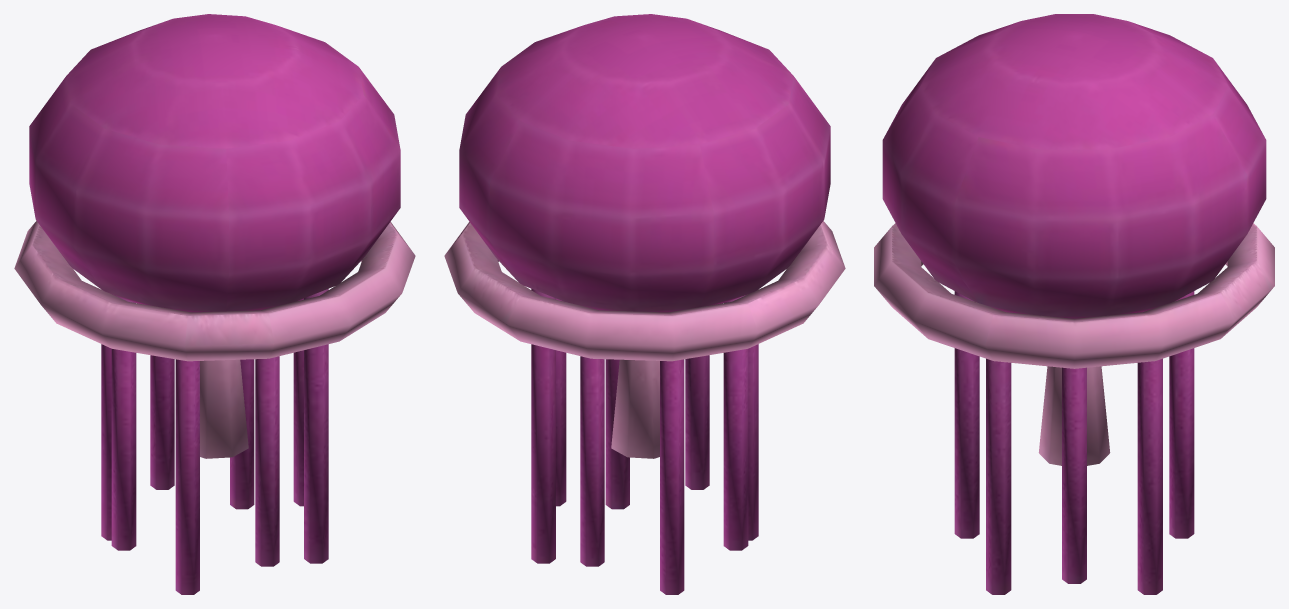
The model's file is Jellyfish.glb.
3 renders of one model, left to right at view 1: azimuth 30°, elevation 25°; view 2: azimuth 150°, elevation 25°; view 3: azimuth 270°, elevation 25°, orthographic. The views are drawn at different scales.
Parts seen in each view (by area): view 1: Jellyfish; view 2: Jellyfish; view 3: Jellyfish.
Part boxes in pixels (x1,y1,x2,y2): Jellyfish: (14, 14, 415, 594); Jellyfish: (444, 14, 845, 594); Jellyfish: (874, 14, 1274, 594).
Bounding box in the file's own units: 0.46 × 0.645 × 0.4485.
Materials: 1 (1 with a texture image).
